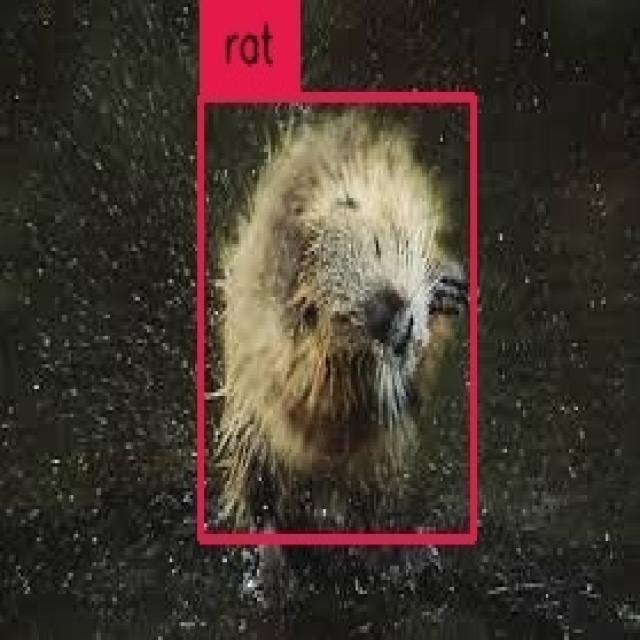rat: (202, 97, 475, 539)
